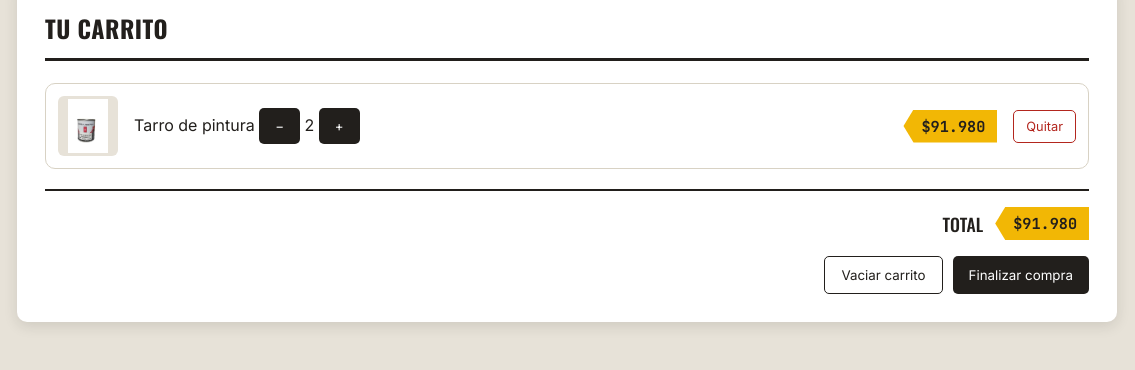
Test: Finalizar compra vacía el carrito y deja el stock descontado
The width and height of the screenshot is (1135, 370).
// interaccion del usuario
What coordinates should you click on to do the following:
click the button "Finalizar compra"
I would click on:
 (1021, 275)
Its box is [952,256,1089,294].
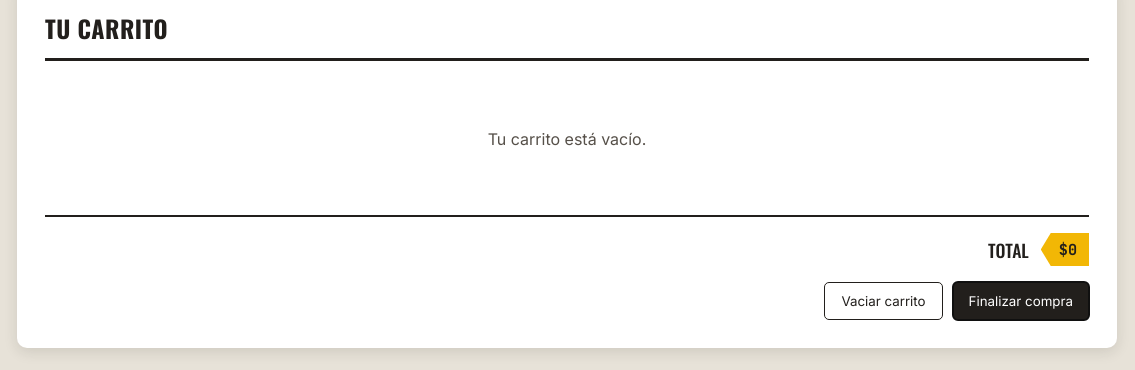
Expected: the text "Tu carrito está vacío." is shown, [488,129,646,149]
